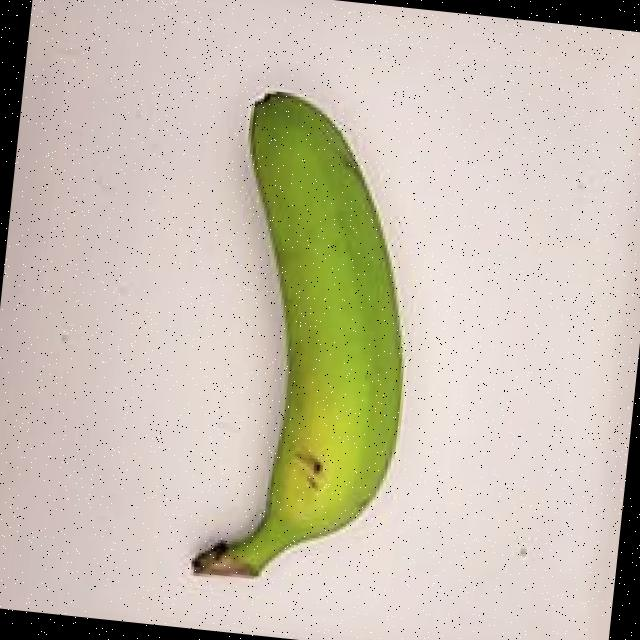Unripe: (121, 68, 472, 602)
